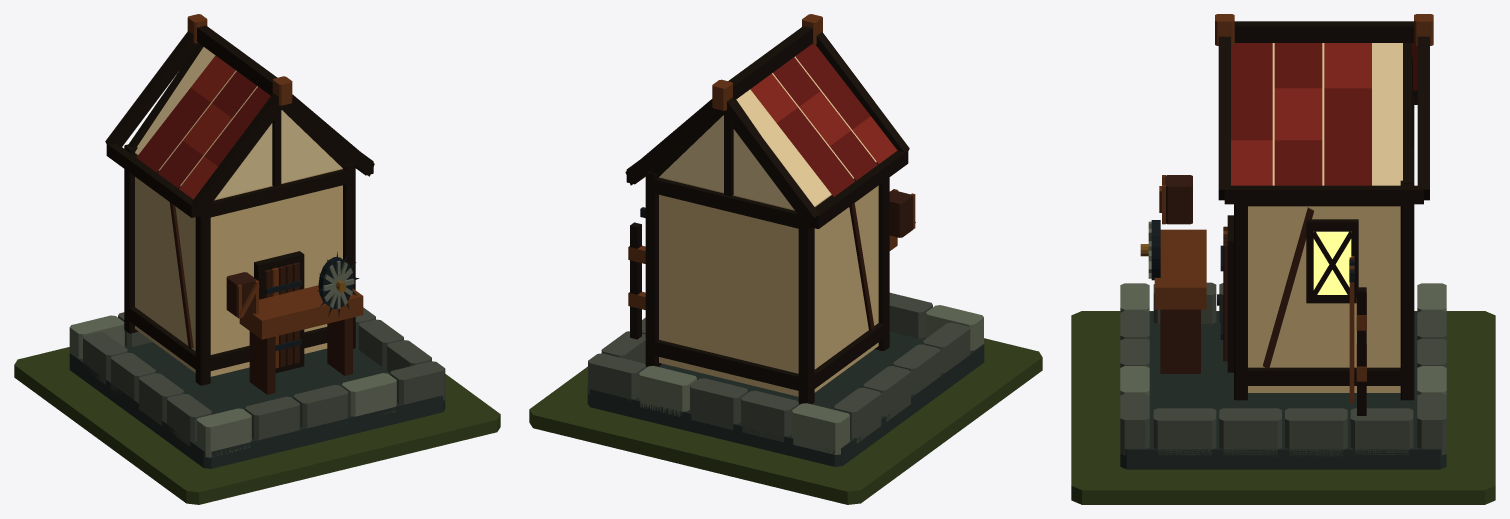
File: workshop_t2.glb
The picture shows the model from 3 angles, left to right: view 1: azimuth 30°, elevation 25°; view 2: azimuth 150°, elevation 25°; view 3: azimuth 270°, elevation 25°; orthographic projection. The views are drawn at different scales.
Visible parts, largest first — view 1: MMR | workshop | T02 Architecture.001, MMR | workshop | Tier 02 Ground.001; view 2: MMR | workshop | T02 Architecture.001, MMR | workshop | Tier 02 Ground.001; view 3: MMR | workshop | T02 Architecture.001, MMR | workshop | Tier 02 Ground.001.
Boxes of the visible parts, left/top/right/bottom form: MMR | workshop | T02 Architecture.001: left=69, top=14, right=445, bottom=468; MMR | workshop | Tier 02 Ground.001: left=14, top=347, right=500, bottom=504; MMR | workshop | T02 Architecture.001: left=587, top=14, right=984, bottom=466; MMR | workshop | Tier 02 Ground.001: left=529, top=338, right=1042, bottom=504; MMR | workshop | T02 Architecture.001: left=1120, top=14, right=1446, bottom=469; MMR | workshop | Tier 02 Ground.001: left=1071, top=311, right=1495, bottom=504.
Size of the model in its own units: 1.3 by 1.34 by 1.3.
Materials: 2 (1 with a texture image).
